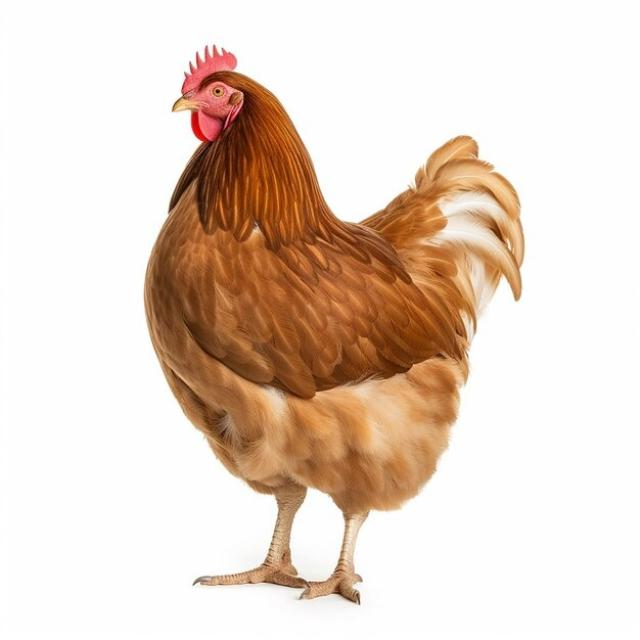Chicken: (144, 44, 524, 606)
